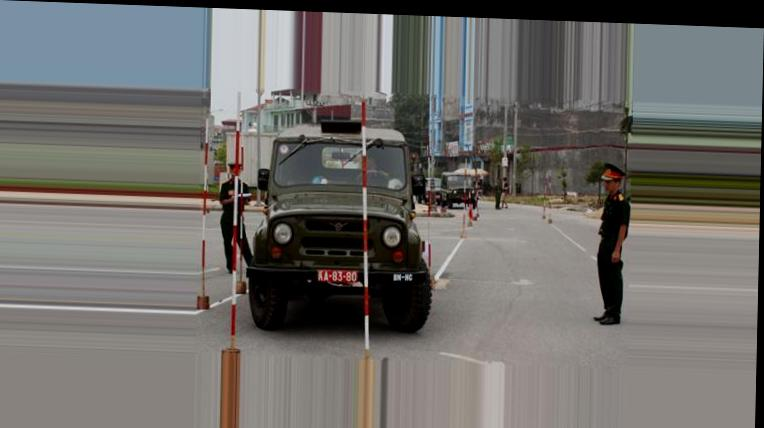License_Plate: (316, 265, 359, 289)
